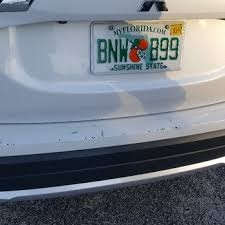Scratch: (47, 127, 110, 149), (139, 118, 188, 137), (1, 139, 19, 153)
